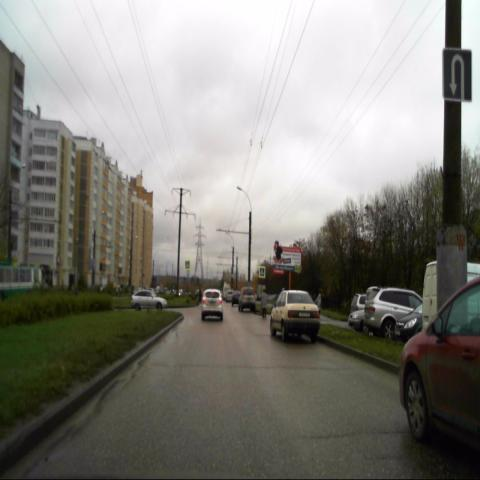6_3_1: (442, 49, 474, 104)
